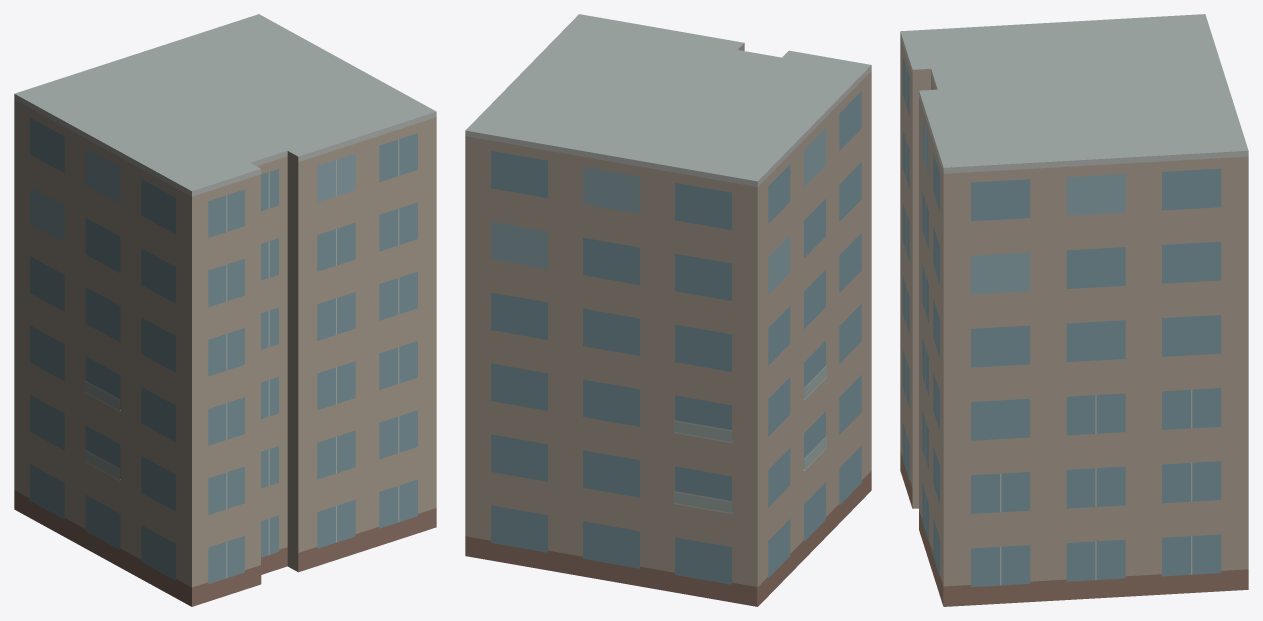
Rendered from survey-upis-33046222.glb.
The picture shows the model from 3 angles, left to right: view 1: azimuth 30°, elevation 25°; view 2: azimuth 150°, elevation 25°; view 3: azimuth 270°, elevation 25°; orthographic projection. The views are drawn at different scales.
Visible parts, largest first — view 1: survey-upis-33046222.tmp; view 2: survey-upis-33046222.tmp; view 3: survey-upis-33046222.tmp.
Boxes of the visible parts, x1,y1,x2,y2 form: survey-upis-33046222.tmp: [14, 14, 436, 606]; survey-upis-33046222.tmp: [465, 14, 871, 606]; survey-upis-33046222.tmp: [900, 14, 1248, 606].
Size of the model in its own units: 13.69 by 18.2 by 13.1.
